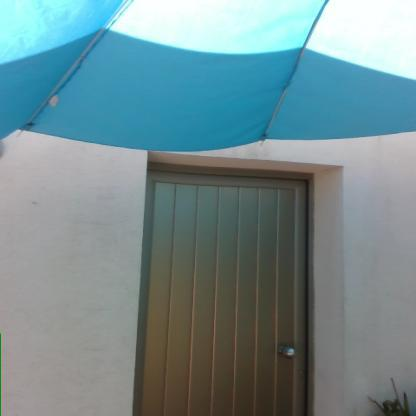door: (149, 173, 310, 415)
knob: (284, 345, 298, 359)
